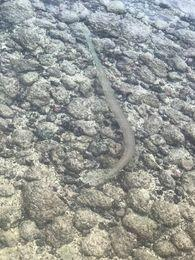Fistularia commersonii: (52, 0, 162, 187)
